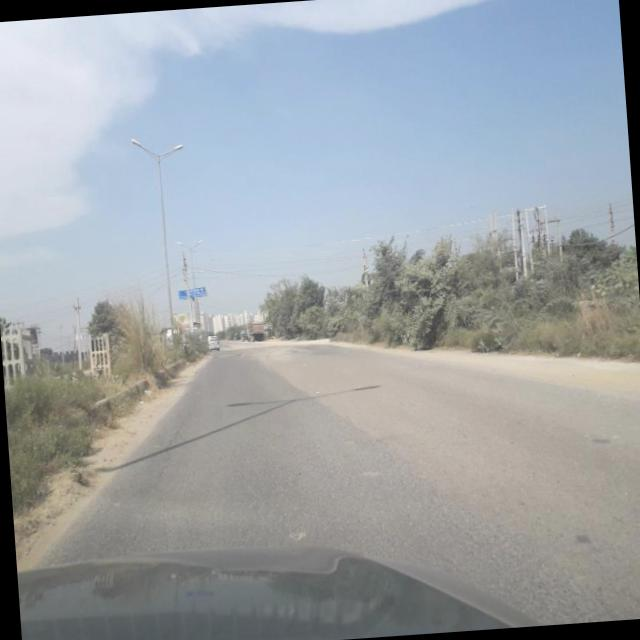crack: (446, 484, 636, 610)
